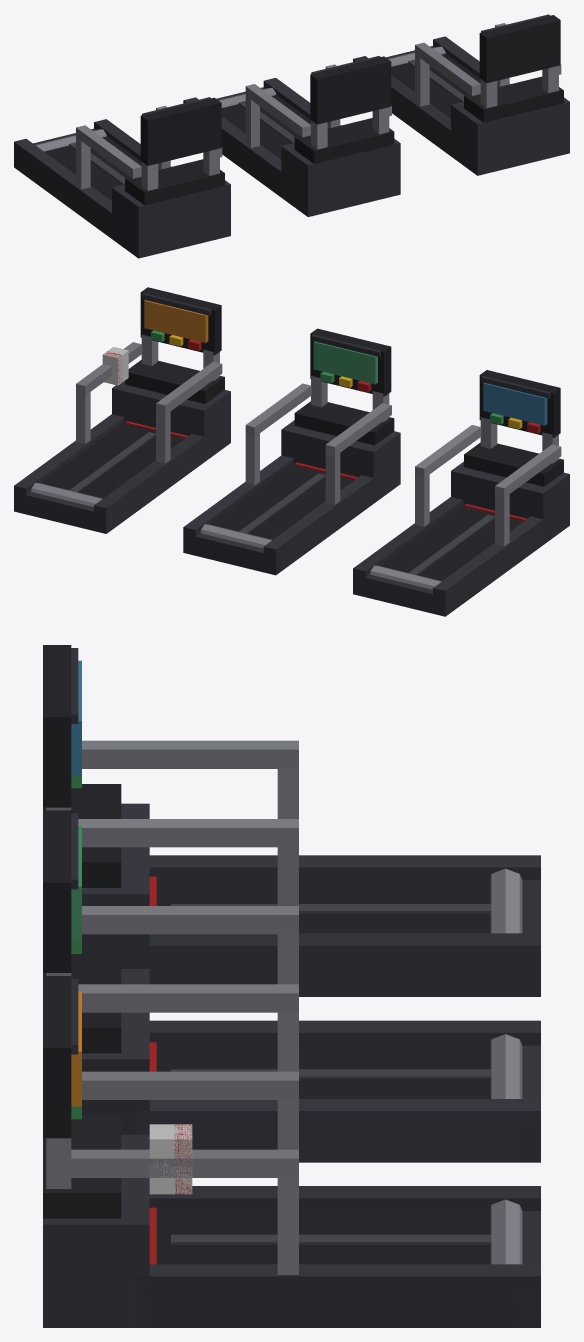
File: Decor_GymHall_Treadmills.fbx
The picture shows the model from 3 angles, top to bottom: view 1: azimuth 30°, elevation 25°; view 2: azimuth 150°, elevation 25°; view 3: azimuth 270°, elevation 25°; orthographic projection. The views are drawn at different scales.
Parts seen in each view (by area): view 1: Treadmills_Body; view 2: Treadmills_Body; view 3: Treadmills_Body.
Part boxes in pixels (x1,y1,x2,y2): Treadmills_Body: (14, 14, 569, 258); Treadmills_Body: (14, 287, 569, 616); Treadmills_Body: (43, 645, 540, 1327).
Size of the model in its own units: 14 by 4.2 by 7.
